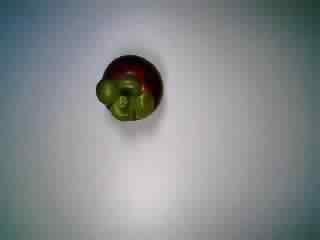mangosteen: (88, 50, 171, 125)
